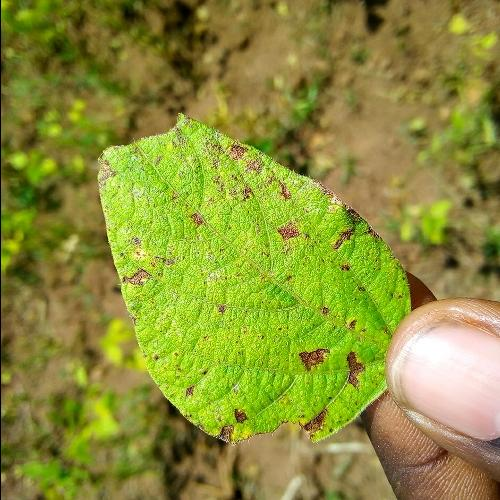mozaik: (132, 126, 409, 500)
